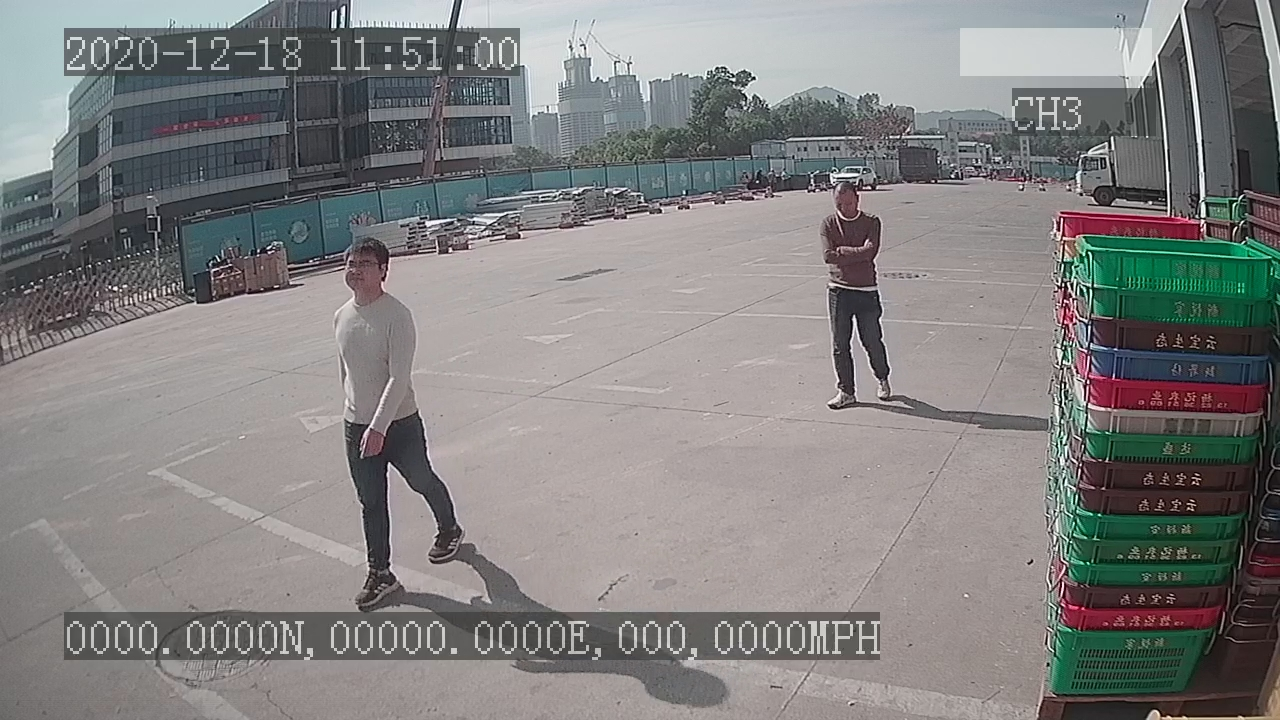person: (324, 229, 470, 610), (813, 172, 902, 411)
